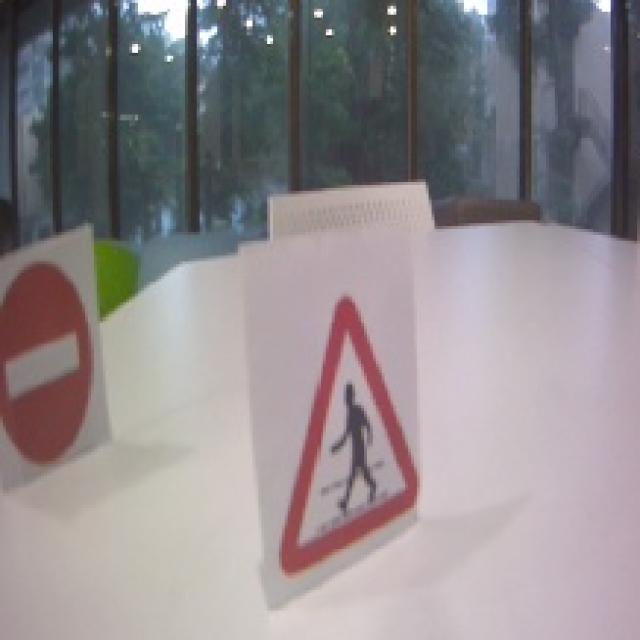DoNotEnterSign: (0, 258, 105, 464)
